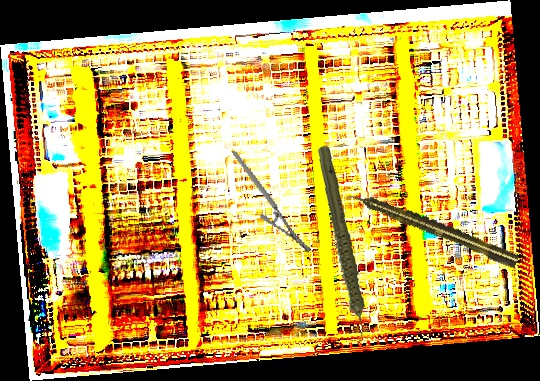Handpiece: (344, 186, 521, 270), (309, 145, 373, 346)
Needle Holder: (232, 137, 312, 266)
